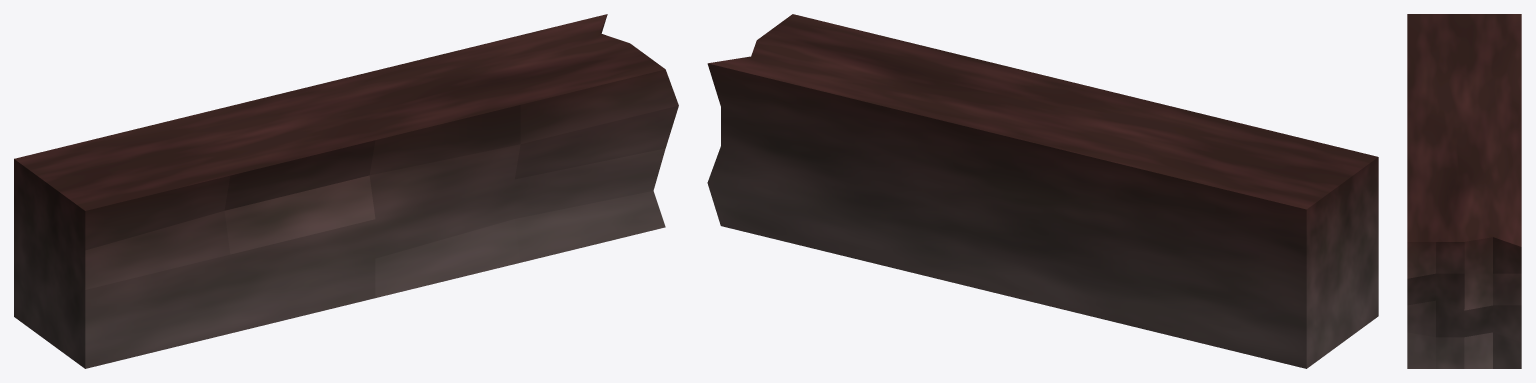
File: GIMM375CaveHall1.fbx
3 views of the same model, side by side, from view 1: azimuth 30°, elevation 25°; view 2: azimuth 150°, elevation 25°; view 3: azimuth 270°, elevation 25° (orthographic). The views are drawn at different scales.
Visible parts, largest first — view 1: Cube.003; view 2: Cube.003; view 3: Cube.003.
Part boxes in pixels (x1,y1,x2,y2): Cube.003: [14, 14, 678, 368]; Cube.003: [707, 14, 1378, 368]; Cube.003: [1407, 14, 1521, 368].
Bounding box in the file's own units: 5538 × 1408 × 1151.
1 material, 1 textured.
